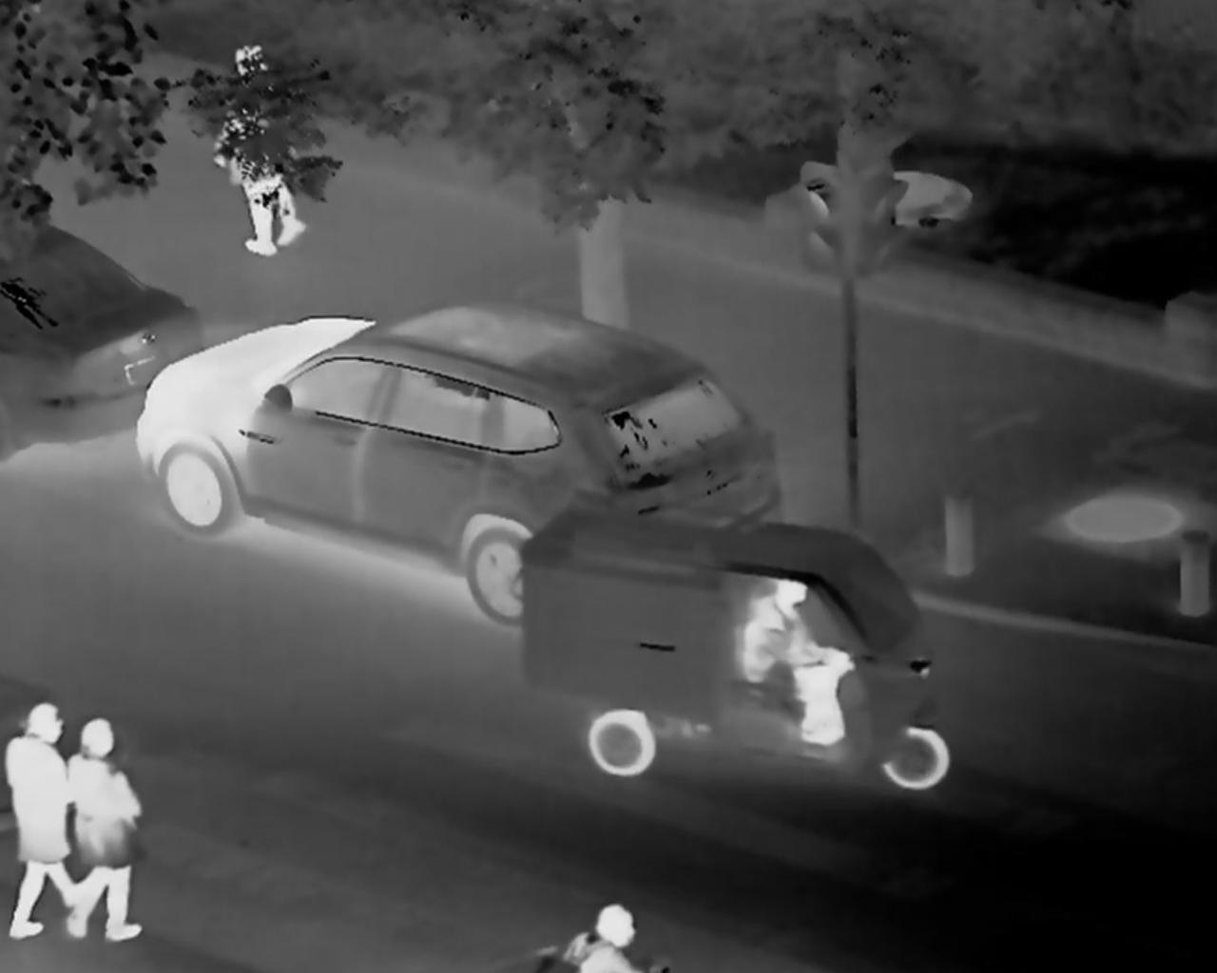person: (218, 49, 317, 295), (74, 723, 175, 949), (746, 569, 838, 733), (18, 689, 68, 935), (574, 916, 653, 973)
